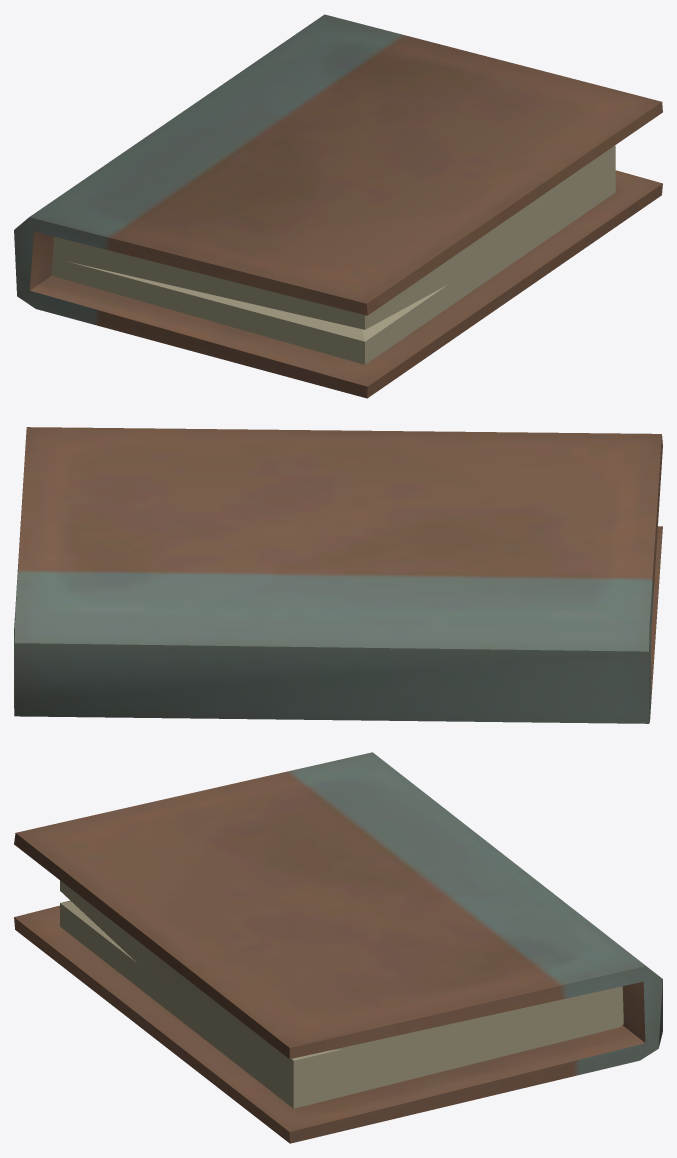
The model's file is Book3.fbx.
3 views of the same model, one above another, from view 1: azimuth 30°, elevation 25°; view 2: azimuth 150°, elevation 25°; view 3: azimuth 270°, elevation 25° (orthographic). The views are drawn at different scales.
Parts seen in each view (by area): view 1: Book3; view 2: Book3; view 3: Book3.
Boxes of the visible parts, left/top/right/bottom form: Book3: left=14, top=14, right=662, bottom=398; Book3: left=14, top=427, right=662, bottom=723; Book3: left=14, top=752, right=662, bottom=1143.
Bounding box in the file's own units: 3.24 × 0.4874 × 2.96.
